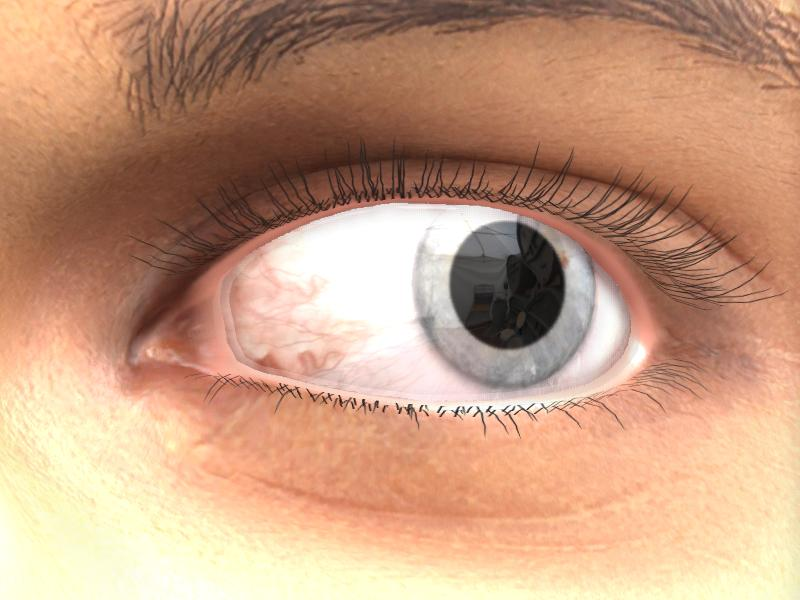eye: (414, 203, 598, 389)
